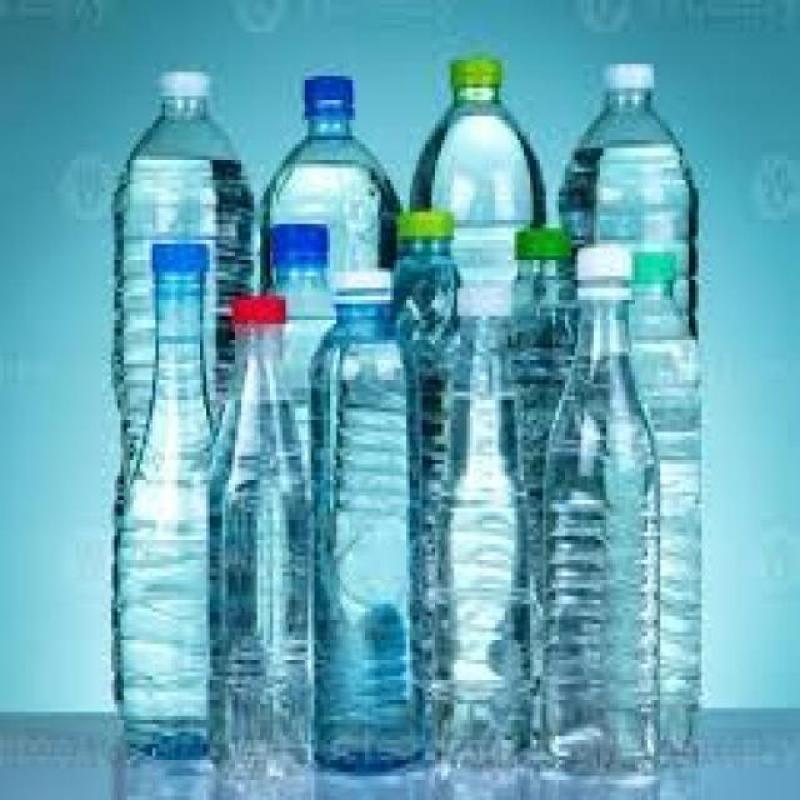botella: (117, 244, 242, 764), (306, 270, 434, 774), (543, 248, 661, 780), (208, 294, 326, 770), (117, 74, 238, 490), (431, 286, 534, 774), (624, 248, 704, 760), (554, 66, 700, 330), (261, 74, 403, 330), (390, 212, 454, 768), (510, 230, 576, 766), (410, 58, 546, 314), (263, 226, 337, 450)
